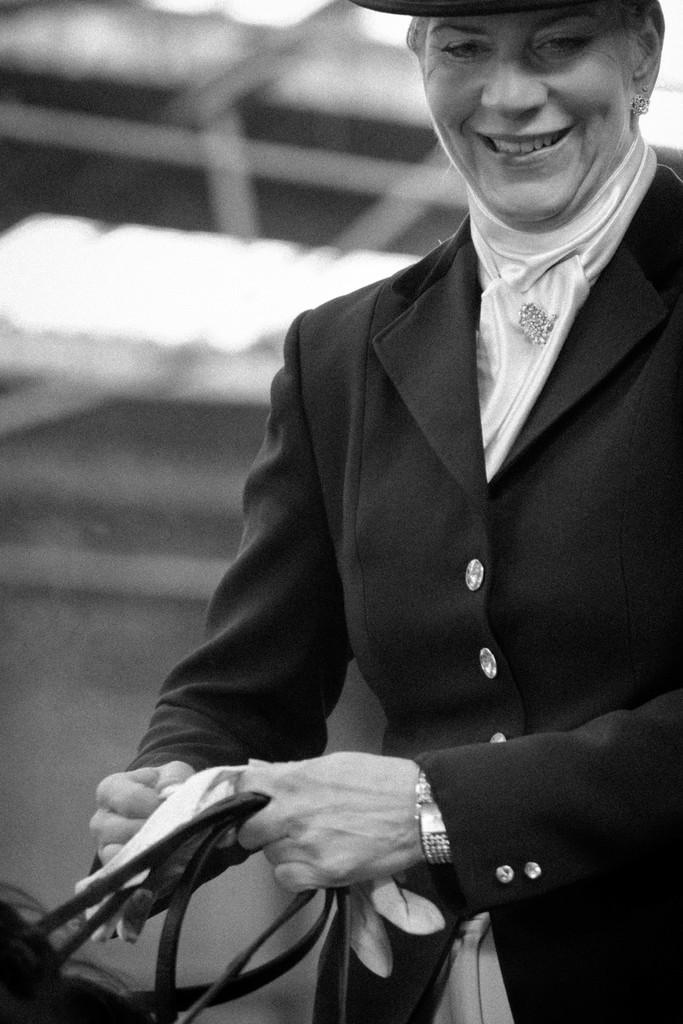Hat: (346, 0, 568, 18)
